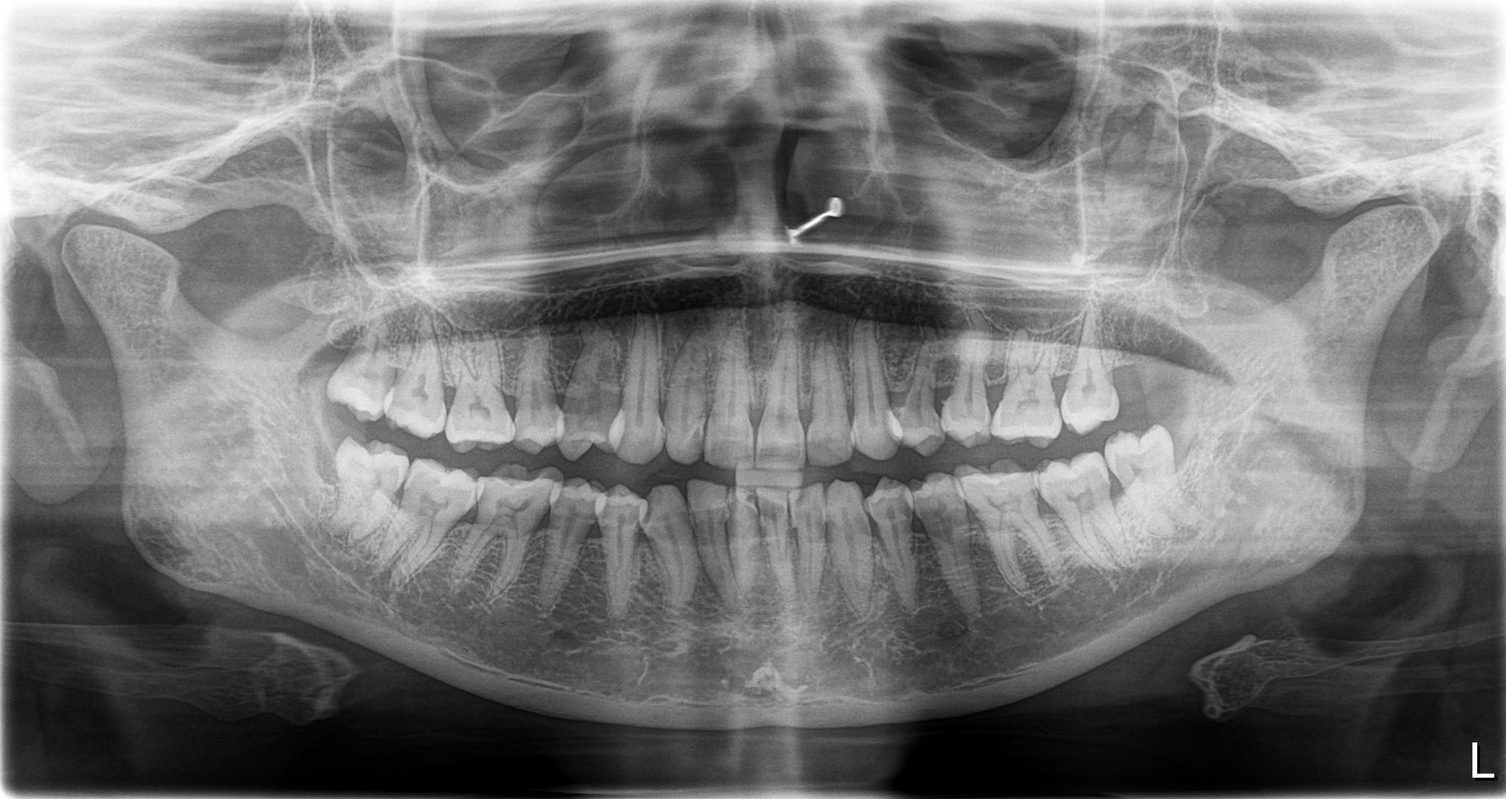Dental Caries: (555, 377, 623, 438)
Impacted Third Molar: (1110, 437, 1207, 529), (324, 436, 405, 544)
